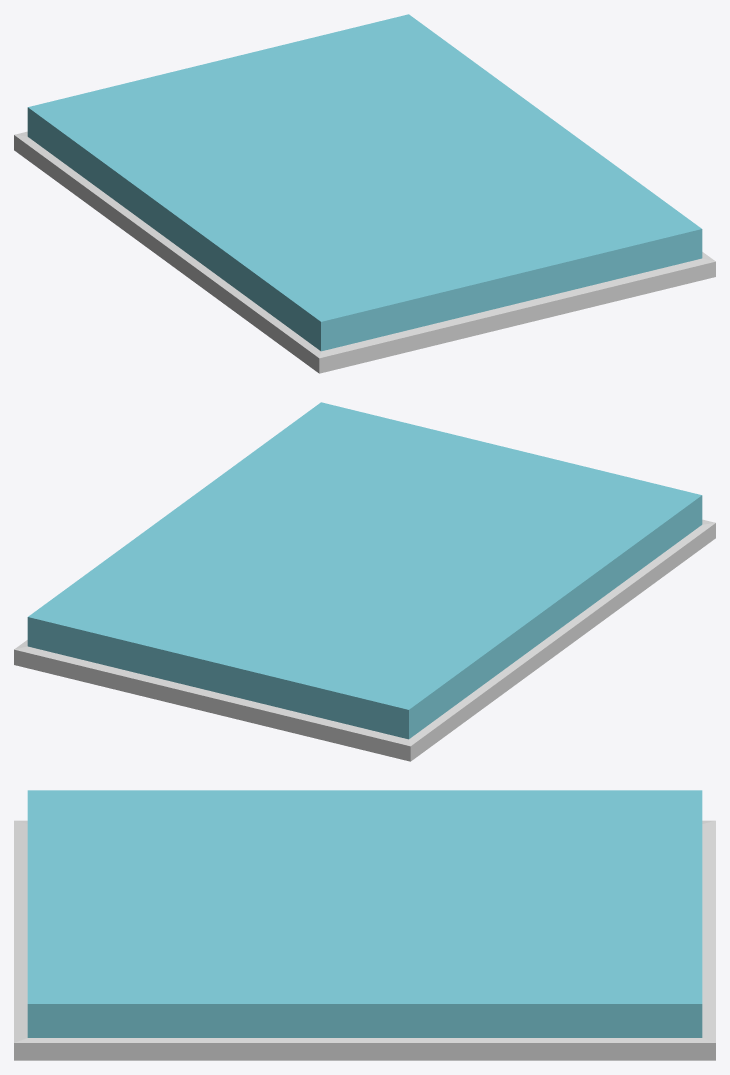
Rendered from Hospital_Middle.fbx.
3 renders of one model, top to bottom at view 1: azimuth 30°, elevation 25°; view 2: azimuth 150°, elevation 25°; view 3: azimuth 270°, elevation 25°, orthographic. The views are drawn at different scales.
Parts seen in each view (by area): view 1: Hospital_Middle; view 2: Hospital_Middle; view 3: Hospital_Middle.
Boxes of the visible parts, x1,y1,x2,y2 form: Hospital_Middle: (14,14,715,373); Hospital_Middle: (14,402,715,761); Hospital_Middle: (14,790,715,1060).
Size of the model in its own units: 288 by 31.58 by 384.
